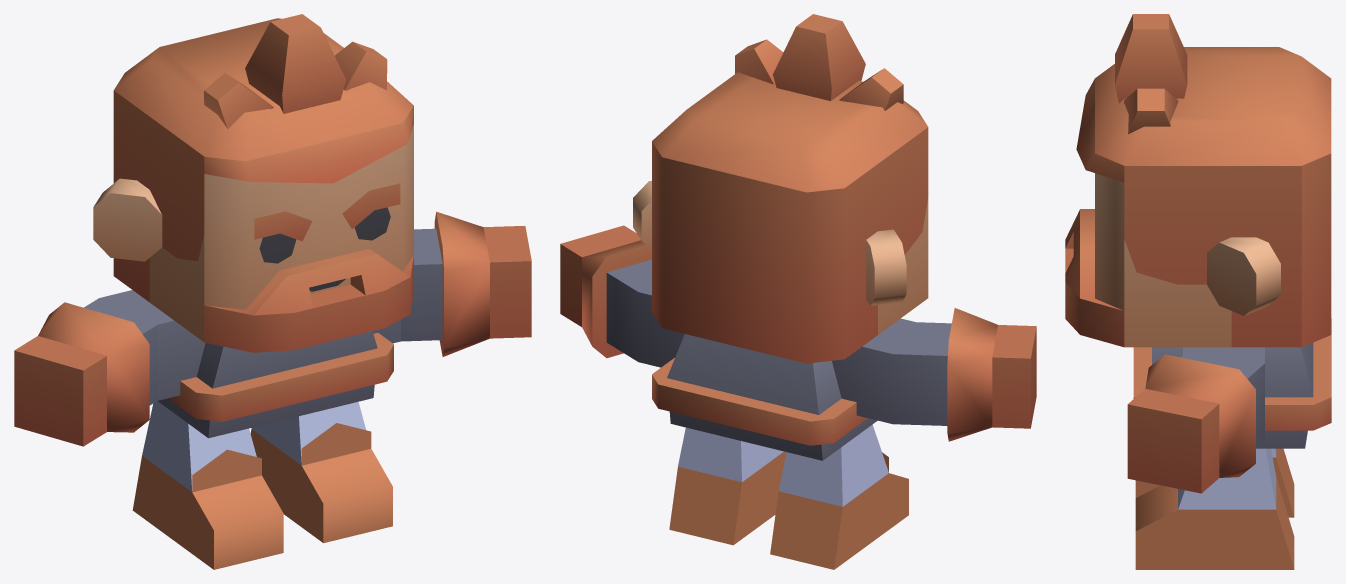
Rendered from character-human.obj.
The picture shows the model from 3 angles, left to right: view 1: azimuth 30°, elevation 25°; view 2: azimuth 150°, elevation 25°; view 3: azimuth 270°, elevation 25°; orthographic projection. The views are drawn at different scales.
Visible parts, largest first — view 1: head-mesh, body-mesh; view 2: head-mesh, body-mesh; view 3: head-mesh, body-mesh.
Part boxes in pixels (x1,y1,x2,y2): head-mesh: (93,14,413,352); body-mesh: (14,211,531,569); head-mesh: (633,14,928,363); body-mesh: (560,225,1036,569); head-mesh: (1065,14,1331,347); body-mesh: (1127,318,1331,569).
Bounding box in the file's own units: 0.7806 × 0.7553 × 0.3605.
1 material, 1 textured.
